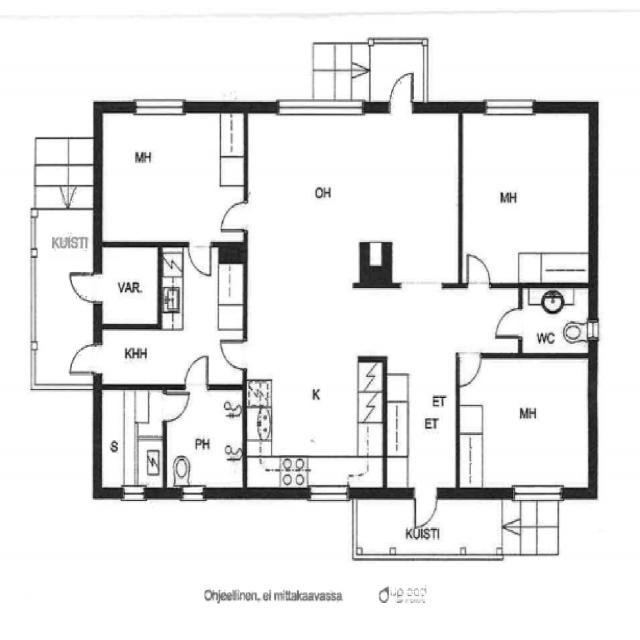door: (163, 385, 247, 488), (396, 276, 449, 314), (212, 193, 256, 238), (62, 338, 105, 379), (66, 265, 103, 305), (180, 348, 213, 392), (387, 68, 418, 113), (216, 335, 251, 373), (491, 304, 526, 341), (157, 388, 192, 425), (185, 239, 215, 280), (412, 489, 439, 532), (464, 250, 492, 291), (456, 349, 484, 390)
window: (267, 94, 366, 123), (475, 90, 542, 122), (126, 90, 192, 120), (505, 478, 571, 507), (303, 480, 354, 506), (174, 481, 212, 506), (117, 483, 149, 505), (583, 316, 602, 346)
zone: (244, 108, 465, 258), (460, 107, 593, 287), (97, 106, 247, 245), (246, 348, 386, 493), (458, 354, 594, 494), (158, 246, 242, 392), (386, 341, 458, 496), (165, 384, 245, 490), (98, 387, 165, 495), (95, 245, 162, 326), (518, 286, 593, 356), (94, 325, 159, 387)
